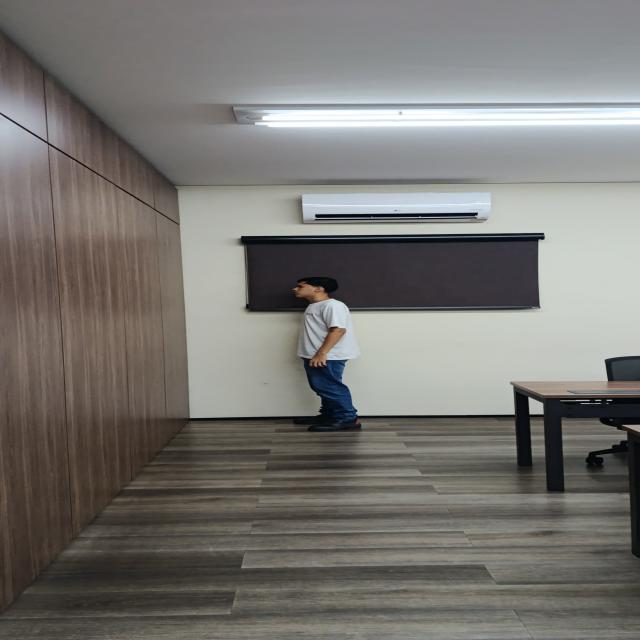sem_oculos: (292, 284, 324, 289)
